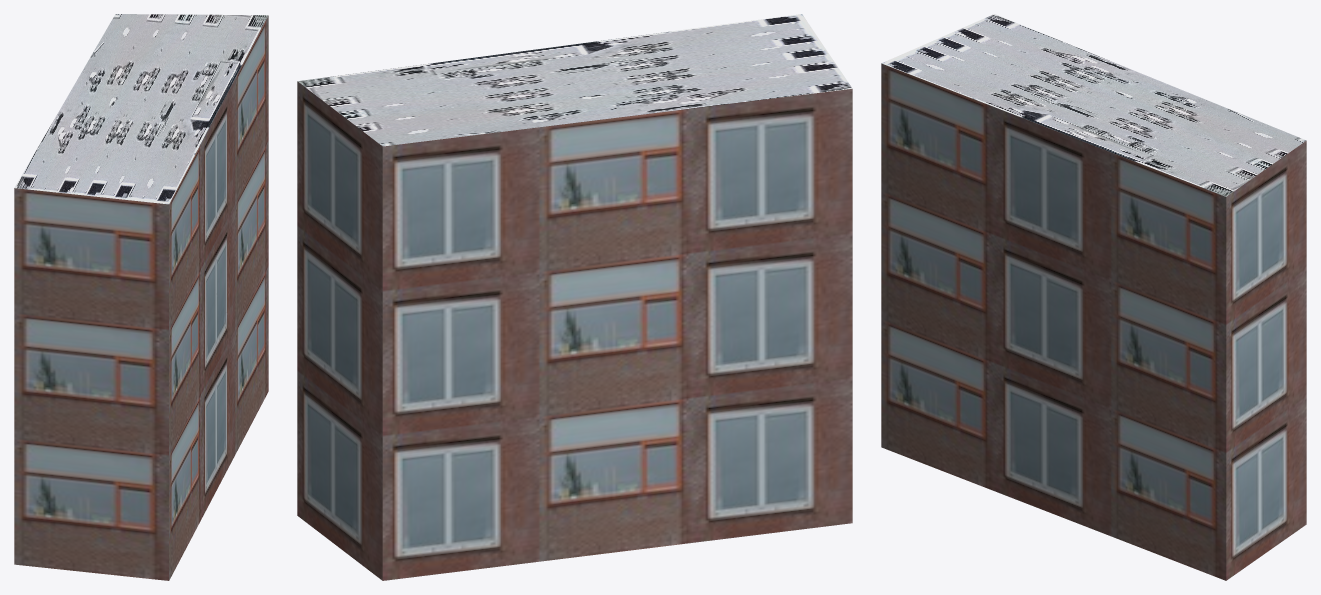
File: ResTex__4229.fbx
The picture shows the model from 3 angles, left to right: view 1: azimuth 30°, elevation 25°; view 2: azimuth 150°, elevation 25°; view 3: azimuth 270°, elevation 25°; orthographic projection. The views are drawn at different scales.
Parts seen in each view (by area): view 1: CityEngineMaterial_19_m, CityEngineMaterial_15_m; view 2: CityEngineMaterial_19_m, CityEngineMaterial_15_m; view 3: CityEngineMaterial_19_m, CityEngineMaterial_15_m.
Boxes of the visible parts, <box> form: CityEngineMaterial_19_m: <box>14,15,268,580</box>; CityEngineMaterial_15_m: <box>14,14,268,204</box>; CityEngineMaterial_19_m: <box>297,81,852,580</box>; CityEngineMaterial_15_m: <box>297,14,852,146</box>; CityEngineMaterial_19_m: <box>881,63,1306,580</box>; CityEngineMaterial_15_m: <box>881,14,1306,196</box>.
Size of the model in its own units: 9.2 by 9 by 9.04.
2 materials, 2 textured.
